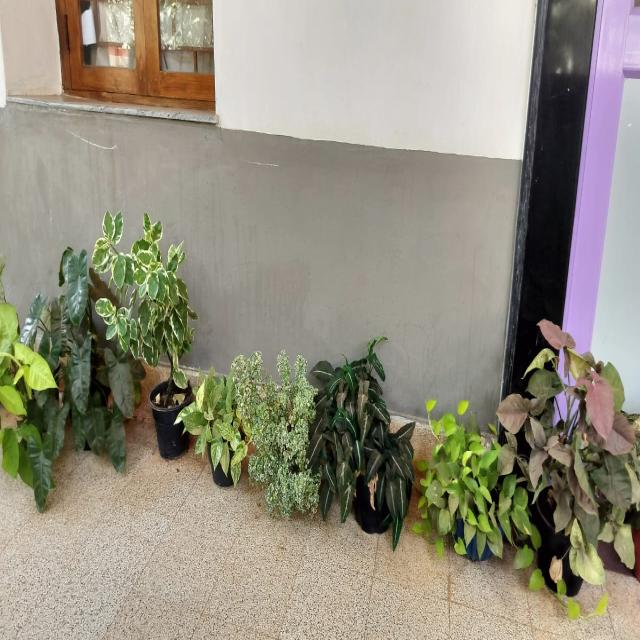plant ahead at: (524, 312, 638, 612), (10, 242, 133, 486), (110, 226, 196, 464), (311, 358, 407, 540), (419, 396, 520, 560), (202, 368, 252, 492)
